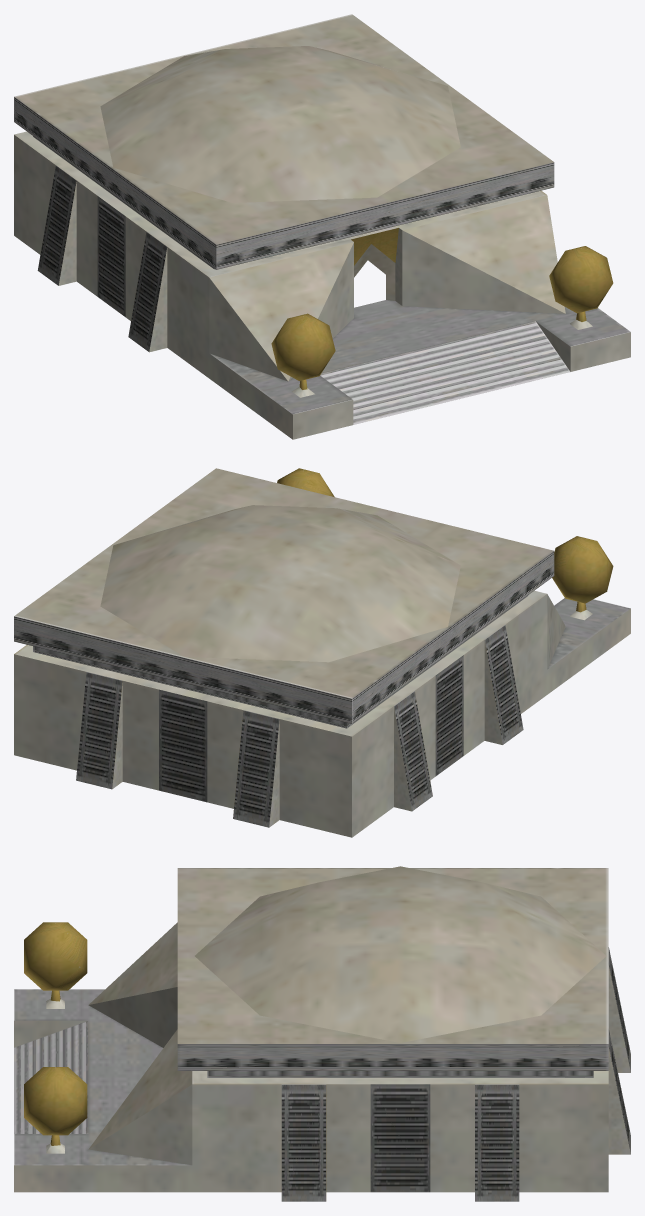
The model's file is mun_all_guild_commerce_s01_r0_exterior_mesh_all_guildcommerce_l2.fbx.
The picture shows the model from 3 angles, top to bottom: view 1: azimuth 30°, elevation 25°; view 2: azimuth 150°, elevation 25°; view 3: azimuth 270°, elevation 25°; orthographic projection. The views are drawn at different scales.
Visible parts, largest first — view 1: mesh_node; view 2: mesh_node; view 3: mesh_node.
Boxes of the visible parts, left/top/right/bottom form: mesh_node: left=14, top=14, right=630, bottom=439; mesh_node: left=14, top=468, right=630, bottom=837; mesh_node: left=14, top=866, right=630, bottom=1201.
Bounding box in the file's own units: 38.75 × 18.45 × 51.88.
Materials: 1 (1 with a texture image).
